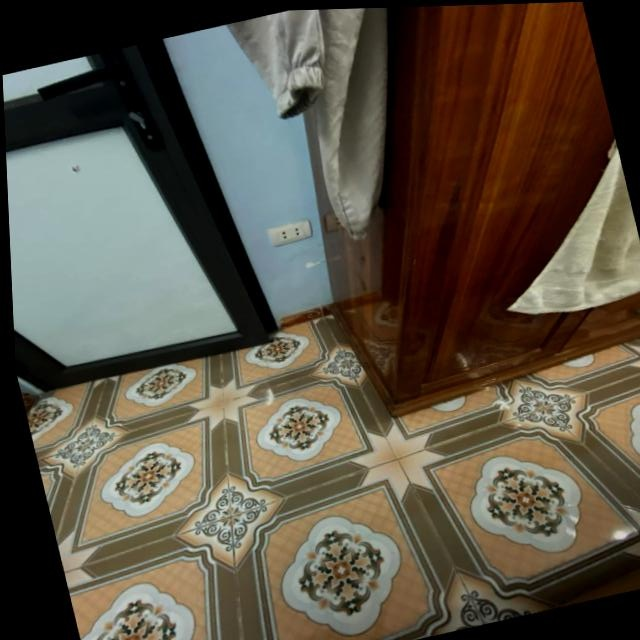outlet: (268, 218, 315, 248)
